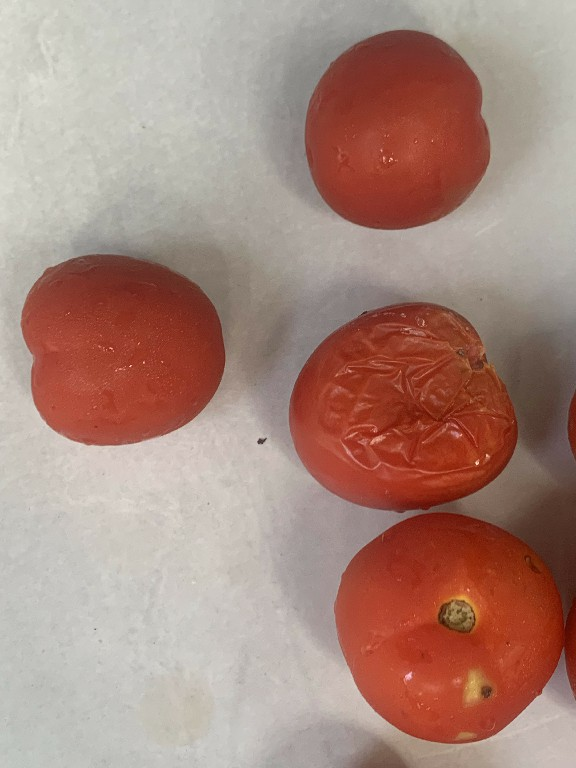NG: (331, 506, 566, 754), (273, 288, 533, 511)
OK: (290, 15, 510, 257), (11, 239, 234, 444)
